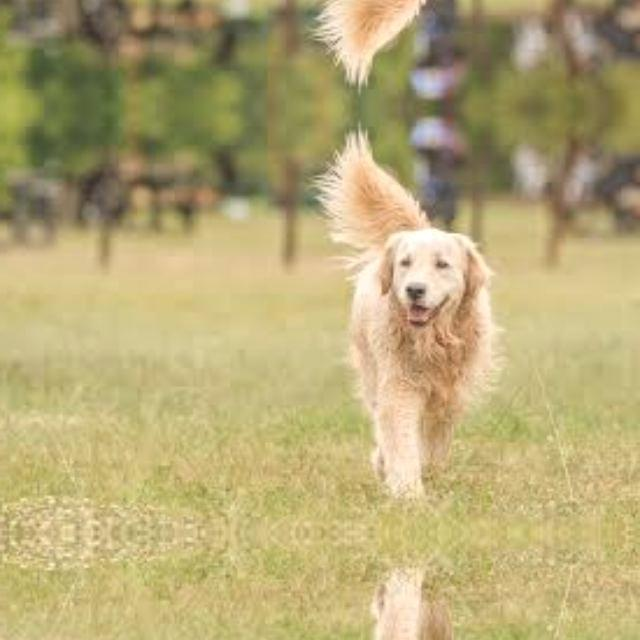dog: (321, 122, 514, 494), (321, 0, 514, 91), (321, 571, 514, 640)
